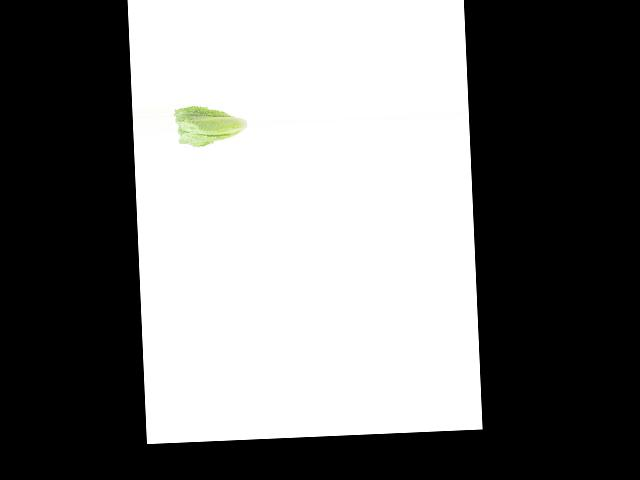lettuce: (173, 101, 247, 153)
